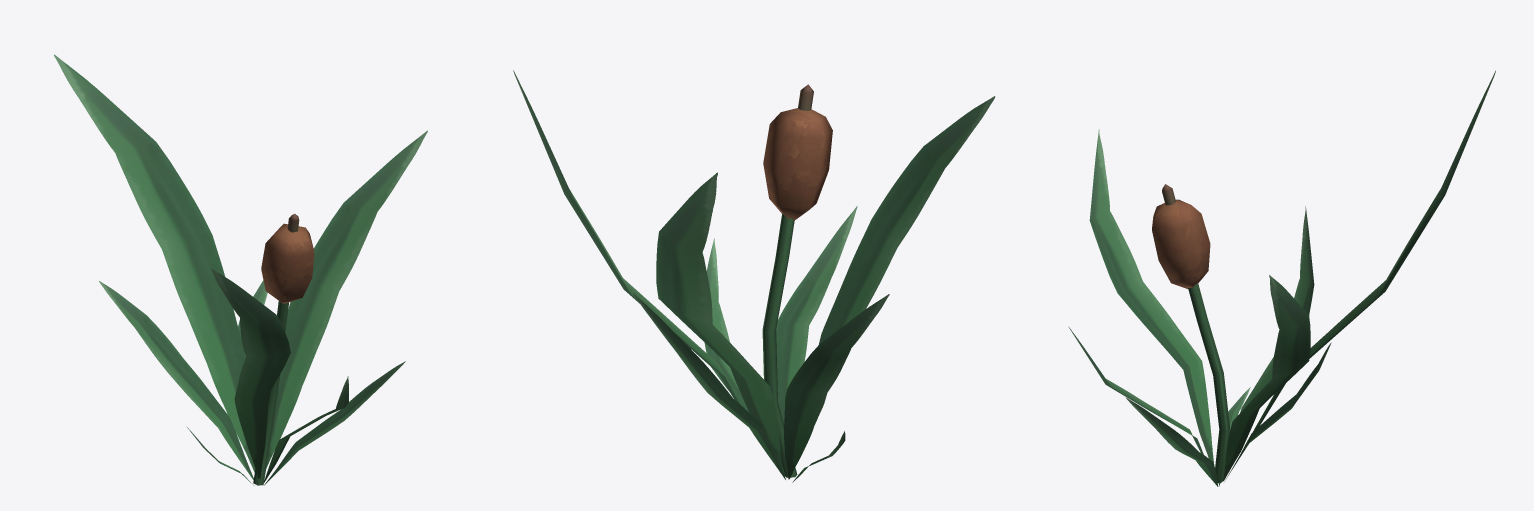
Rendered from SM_Reed_01.fbx.
3 renders of one model, left to right at view 1: azimuth 30°, elevation 25°; view 2: azimuth 150°, elevation 25°; view 3: azimuth 270°, elevation 25°, orthographic. The views are drawn at different scales.
Visible parts, largest first — view 1: polySurface27; view 2: polySurface27; view 3: polySurface27.
Part boxes in pixels (x1,y1,x2,y2): polySurface27: (54, 54, 427, 485); polySurface27: (513, 70, 995, 482); polySurface27: (1068, 70, 1495, 486).
Bounding box in the file's own units: 85.05 × 91.14 × 91.16.
